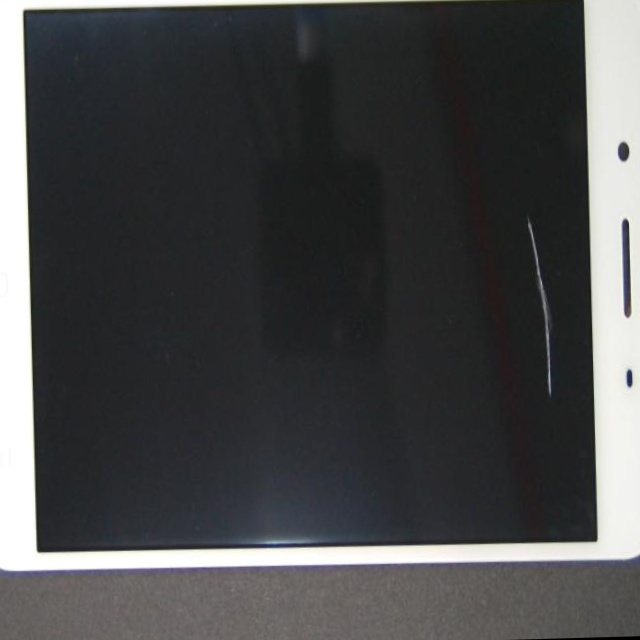scratch: (233, 5, 640, 379)
